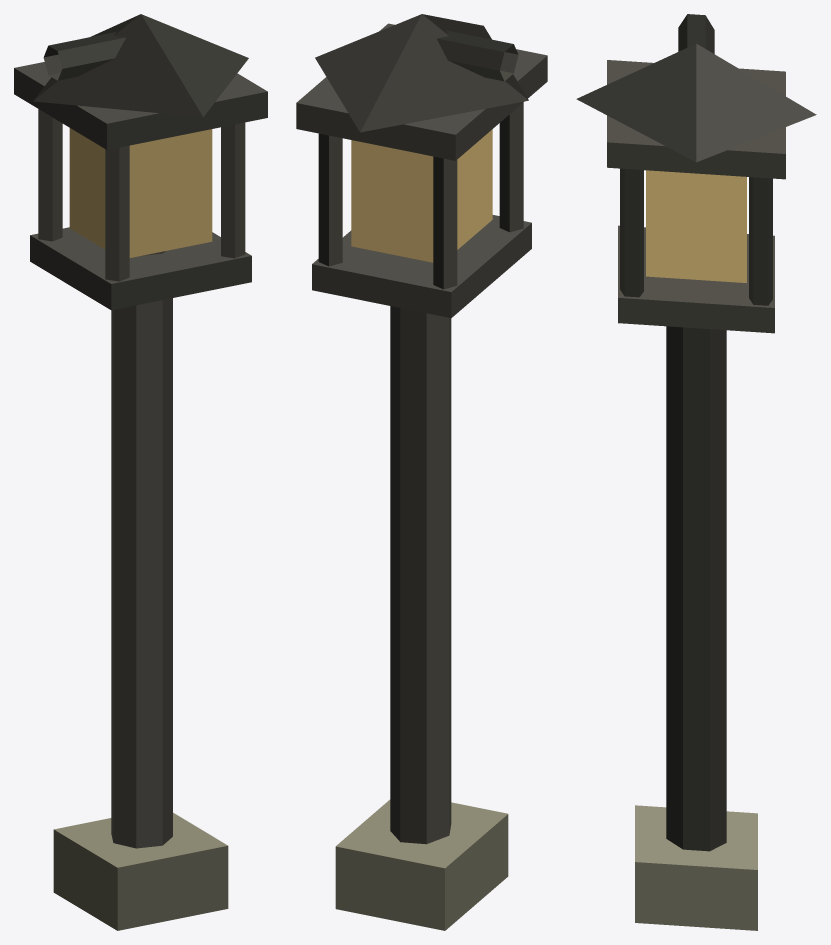
3 views of the same model, side by side, from view 1: azimuth 30°, elevation 25°; view 2: azimuth 150°, elevation 25°; view 3: azimuth 270°, elevation 25° (orthographic). The views are drawn at different scales.
Parts seen in each view (by area): view 1: beb11acad82ed0fedfbf5ce8a6d5eccd7d80dc69a7670b0c4e3624ddaca7; view 2: beb11acad82ed0fedfbf5ce8a6d5eccd7d80dc69a7670b0c4e3624ddaca7; view 3: beb11acad82ed0fedfbf5ce8a6d5eccd7d80dc69a7670b0c4e3624ddaca7.
Part boxes in pixels (x1,y1,x2,y2): beb11acad82ed0fedfbf5ce8a6d5eccd7d80dc69a7670b0c4e3624ddaca7: [14, 14, 267, 930]; beb11acad82ed0fedfbf5ce8a6d5eccd7d80dc69a7670b0c4e3624ddaca7: [296, 14, 547, 930]; beb11acad82ed0fedfbf5ce8a6d5eccd7d80dc69a7670b0c4e3624ddaca7: [576, 14, 816, 930].
Size of the model in its own units: 0.86 by 3.4 by 0.86.
2 materials, 1 textured.
